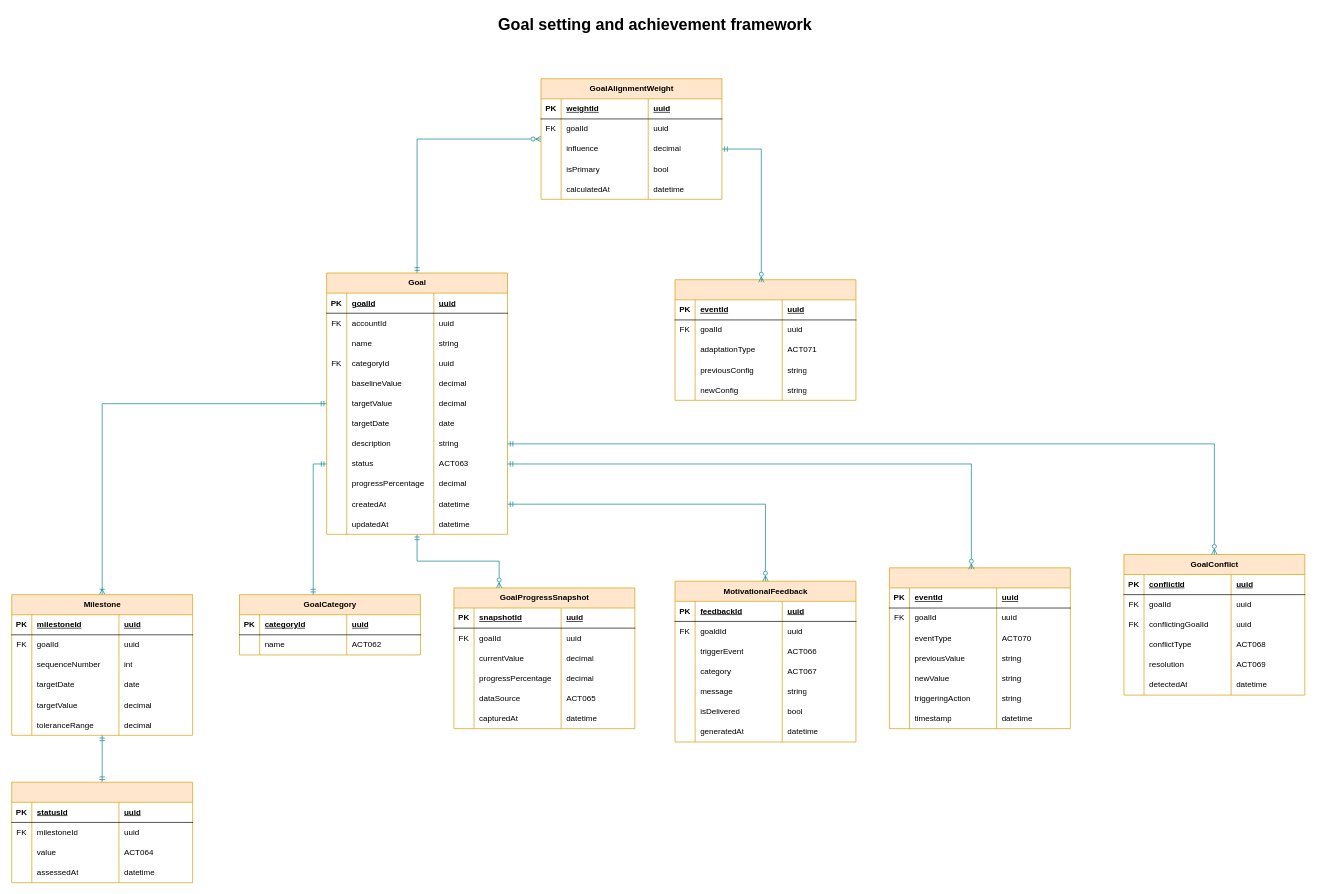
Some shapes in this 1317 by 894 pixel diagram are drawn without their labels. Here are the shapes that lost their labels. From the top down, the box of each, then its label:
(674, 279, 856, 400): AdaptationEvent
(889, 567, 1070, 729): GoalLifecycleEvent
(11, 782, 193, 883): MilestoneStatus
